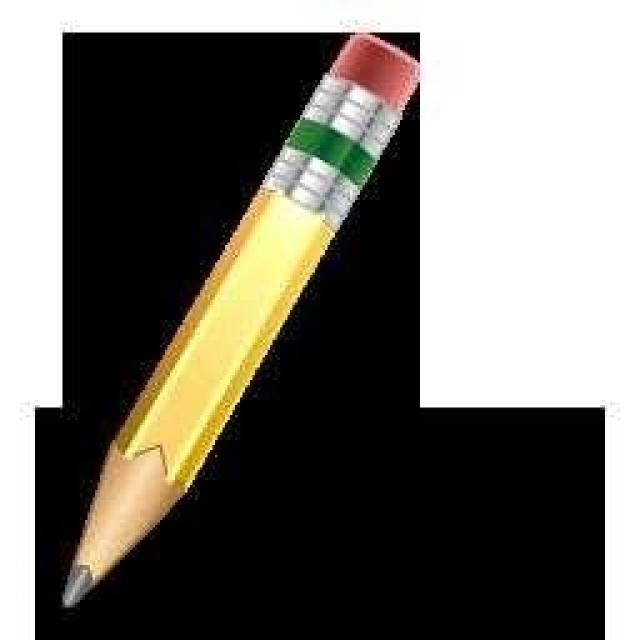pencil: (55, 30, 420, 610)
